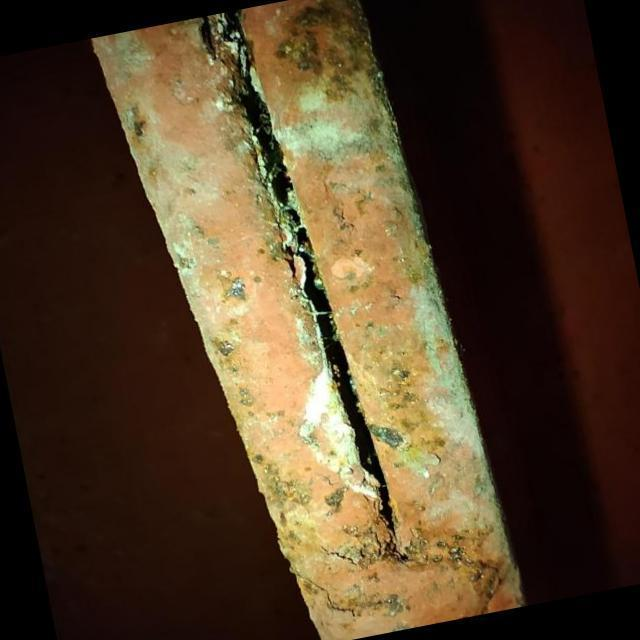defect: (200, 10, 400, 538), (302, 576, 360, 620), (315, 543, 360, 567)
